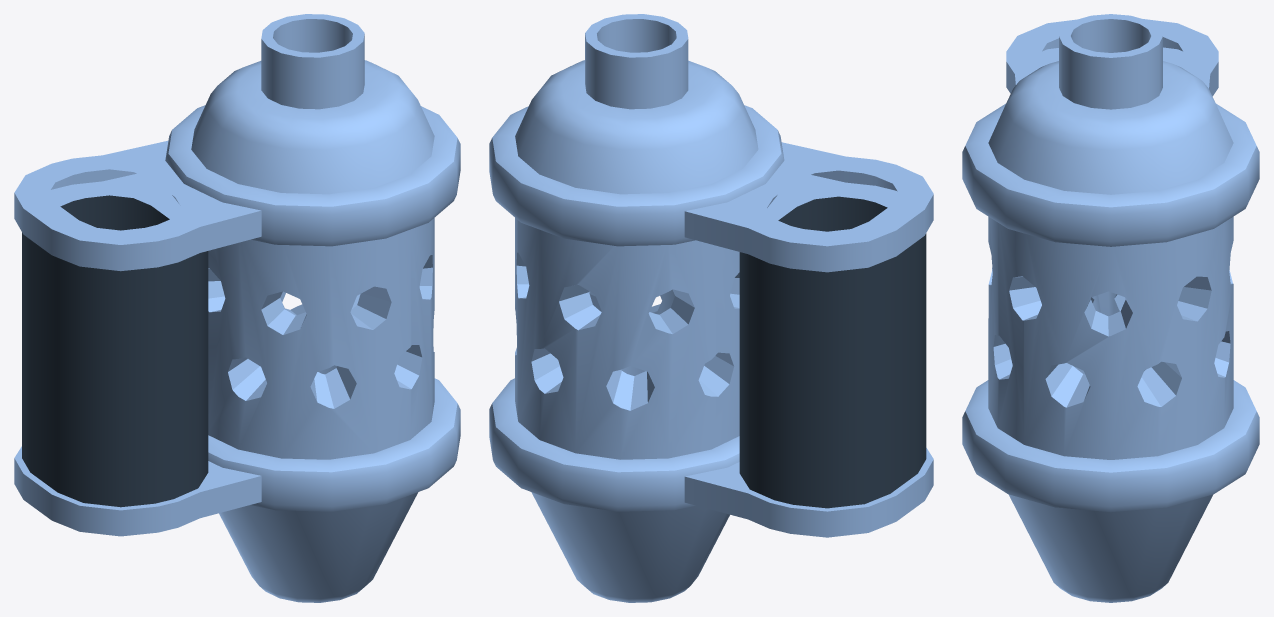
File: JetsUpgrade_02_mesh.fbx
3 views of the same model, side by side, from view 1: azimuth 30°, elevation 25°; view 2: azimuth 150°, elevation 25°; view 3: azimuth 270°, elevation 25° (orthographic).
Parts seen in each view (by area): view 1: Fire Burst.002; view 2: Fire Burst.002; view 3: Fire Burst.002.
Boxes of the visible parts, x1,y1,x2,y2 form: Fire Burst.002: (14,14,460,602); Fire Burst.002: (489,14,933,602); Fire Burst.002: (962,14,1259,602).
Bounding box in the file's own units: 29.37 × 38.05 × 18.77.
